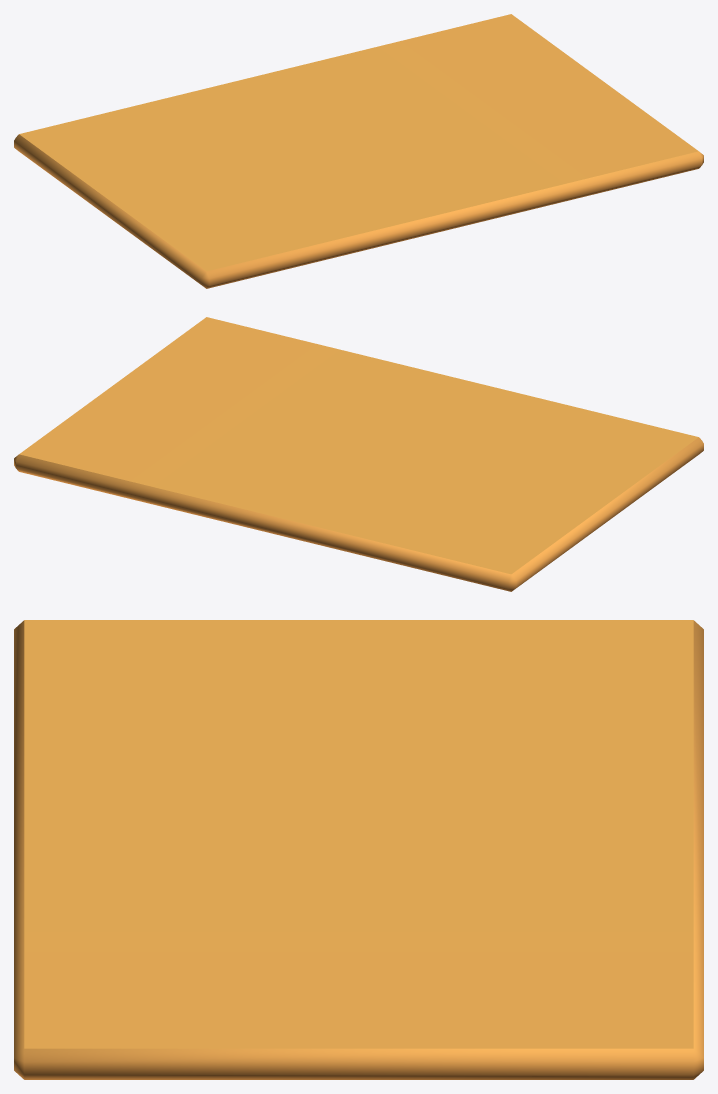
Rendered from rug_rectangle_A.glb.
The picture shows the model from 3 angles, top to bottom: view 1: azimuth 30°, elevation 25°; view 2: azimuth 150°, elevation 25°; view 3: azimuth 270°, elevation 25°; orthographic projection. The views are drawn at different scales.
Parts seen in each view (by area): view 1: rug_rectangle_A; view 2: rug_rectangle_A; view 3: rug_rectangle_A.
Boxes of the visible parts, left/top/right/bottom form: rug_rectangle_A: left=14, top=14, right=703, bottom=288; rug_rectangle_A: left=14, top=317, right=703, bottom=591; rug_rectangle_A: left=14, top=620, right=703, bottom=1079.
Bounding box in the file's own units: 3 × 0.1 × 2.
Materials: 1 (1 with a texture image).
